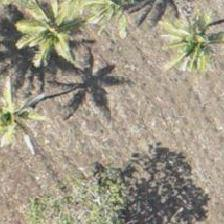Kelapa_Sawit: (13, 0, 103, 81), (0, 75, 46, 165)
